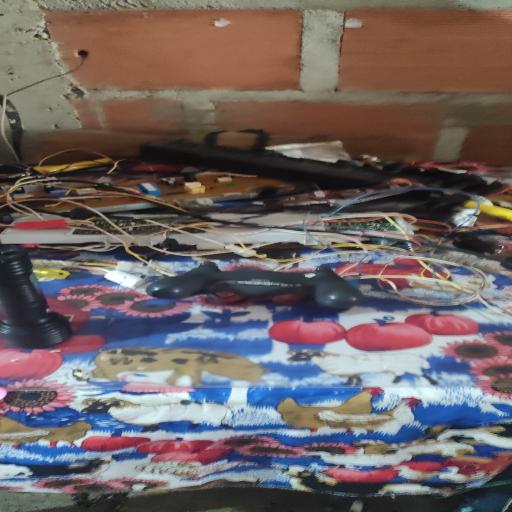ControlPlay4: (146, 262, 362, 308)
